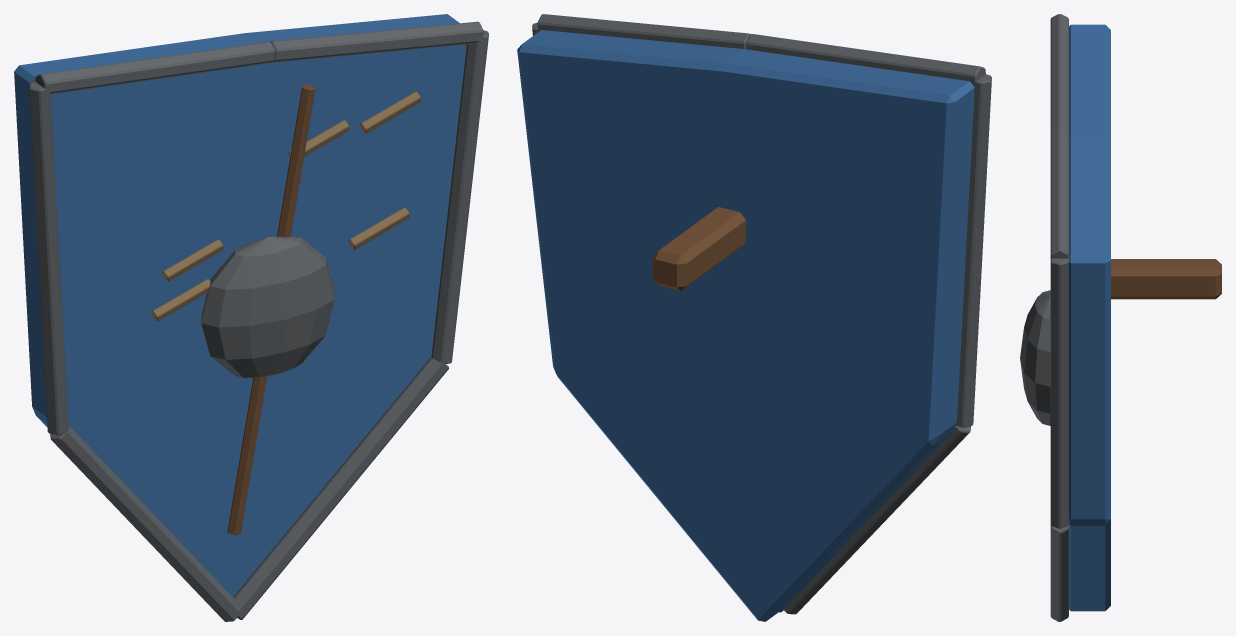
File: runtime.glb
3 renders of one model, left to right at view 1: azimuth 30°, elevation 25°; view 2: azimuth 150°, elevation 25°; view 3: azimuth 270°, elevation 25°, orthographic. The views are drawn at different scales.
Parts seen in each view (by area): view 1: falkenwacht-wall-shield-v08_nocol; view 2: falkenwacht-wall-shield-v08_nocol; view 3: falkenwacht-wall-shield-v08_nocol.
Boxes of the visible parts, x1,y1,x2,y2 form: falkenwacht-wall-shield-v08_nocol: (14, 14, 488, 621); falkenwacht-wall-shield-v08_nocol: (517, 14, 991, 621); falkenwacht-wall-shield-v08_nocol: (1020, 14, 1221, 621).
Bounding box in the file's own units: 1.49 × 1.84 × 0.6456.
